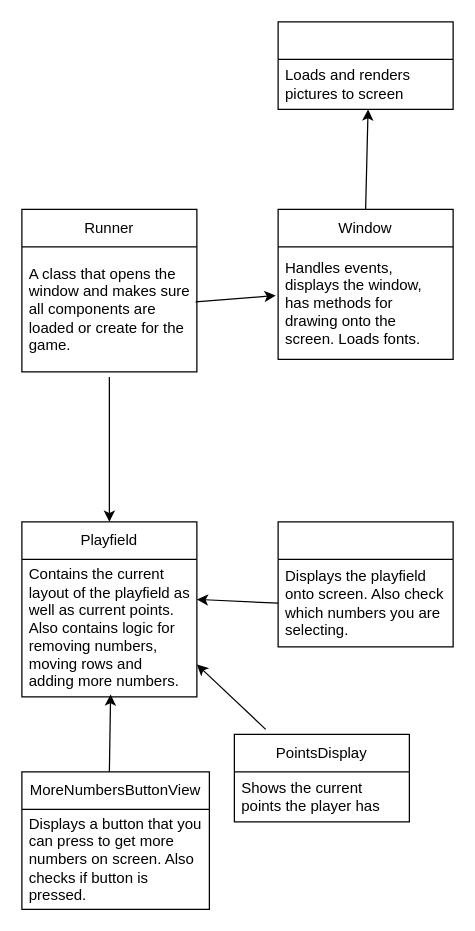
Image size: 475x931. Some labels were removed from this diagram. The shapes that lost their labels are listed below. From the top down, each one's box as (x1, y1, x2, y2) in pixels, then its label:
(277, 21, 453, 109): Sprite
(277, 521, 453, 647): PlayfieldView
